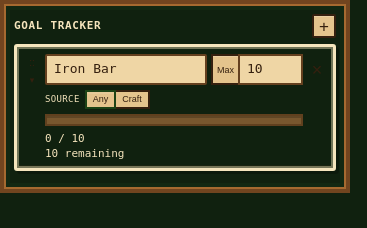
it: GoalSection › syncs the target from the immediate background planning response
The image size is (367, 228).
Click the button with aria-label "Use maximum craftable target" at [224, 70], box [211, 54, 238, 85]
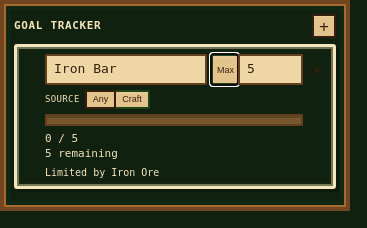
Expected: the number field named "Goal target" holds "5", [238, 54, 303, 85]
Expected: the text "Limited by Iron Ore" is shown, [45, 167, 159, 178]
